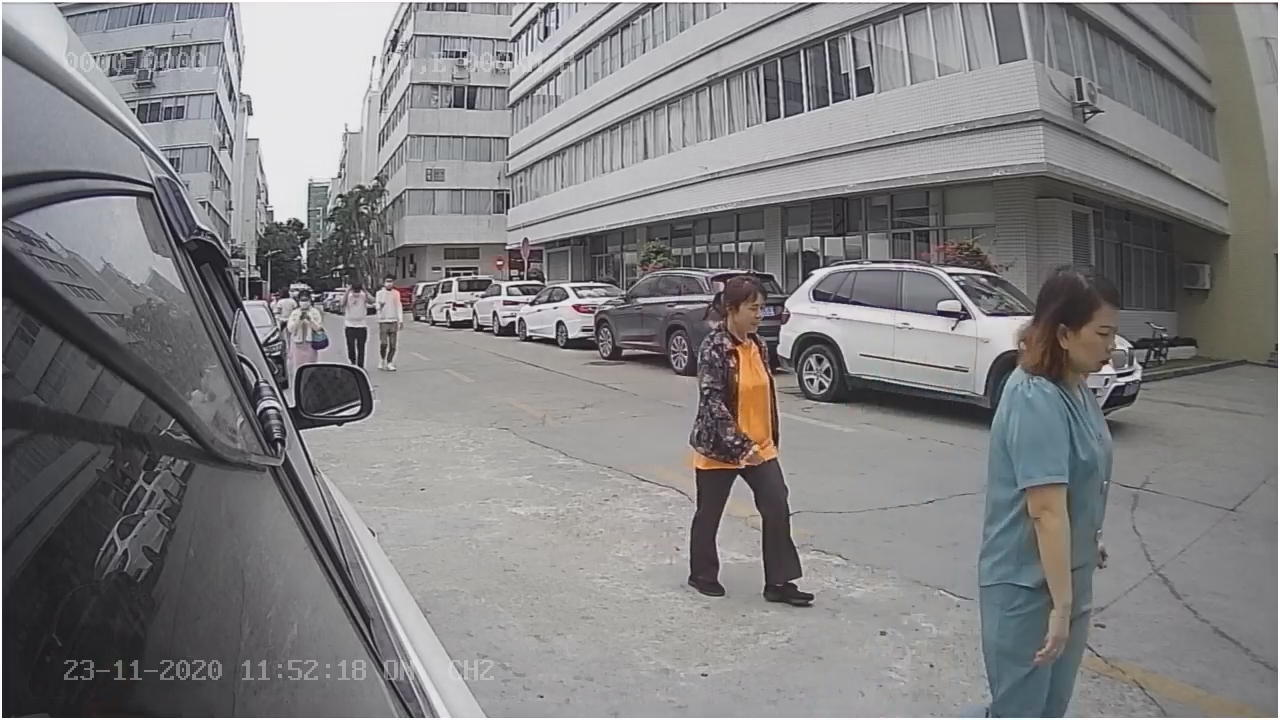person: (985, 272, 1145, 717), (690, 271, 813, 609)
